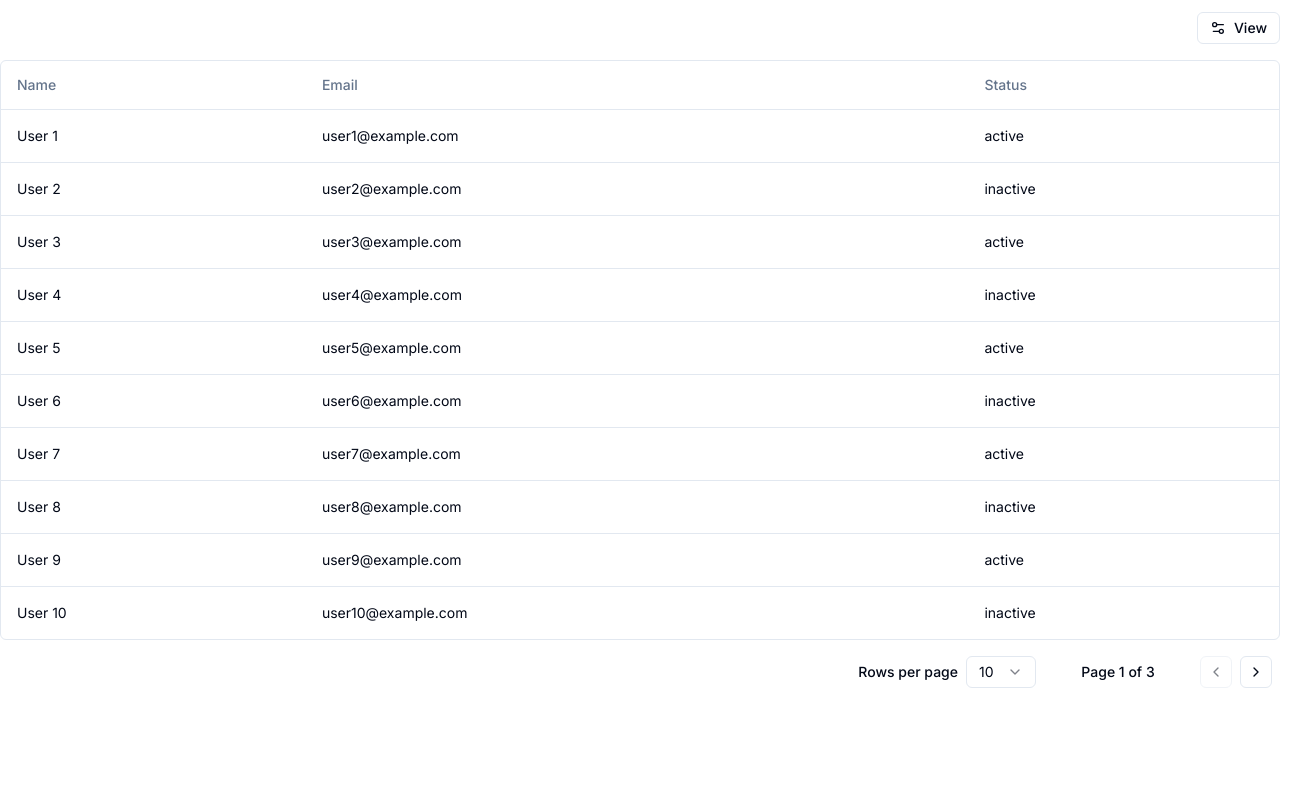
Test case: DataTable › pagination › navigates to next page when next button clicked
This screenshot has width=1292, height=812.
Click the 2nd button named "go to next page": x=1256, y=672 x1=1240 y1=656 x2=1272 y2=688
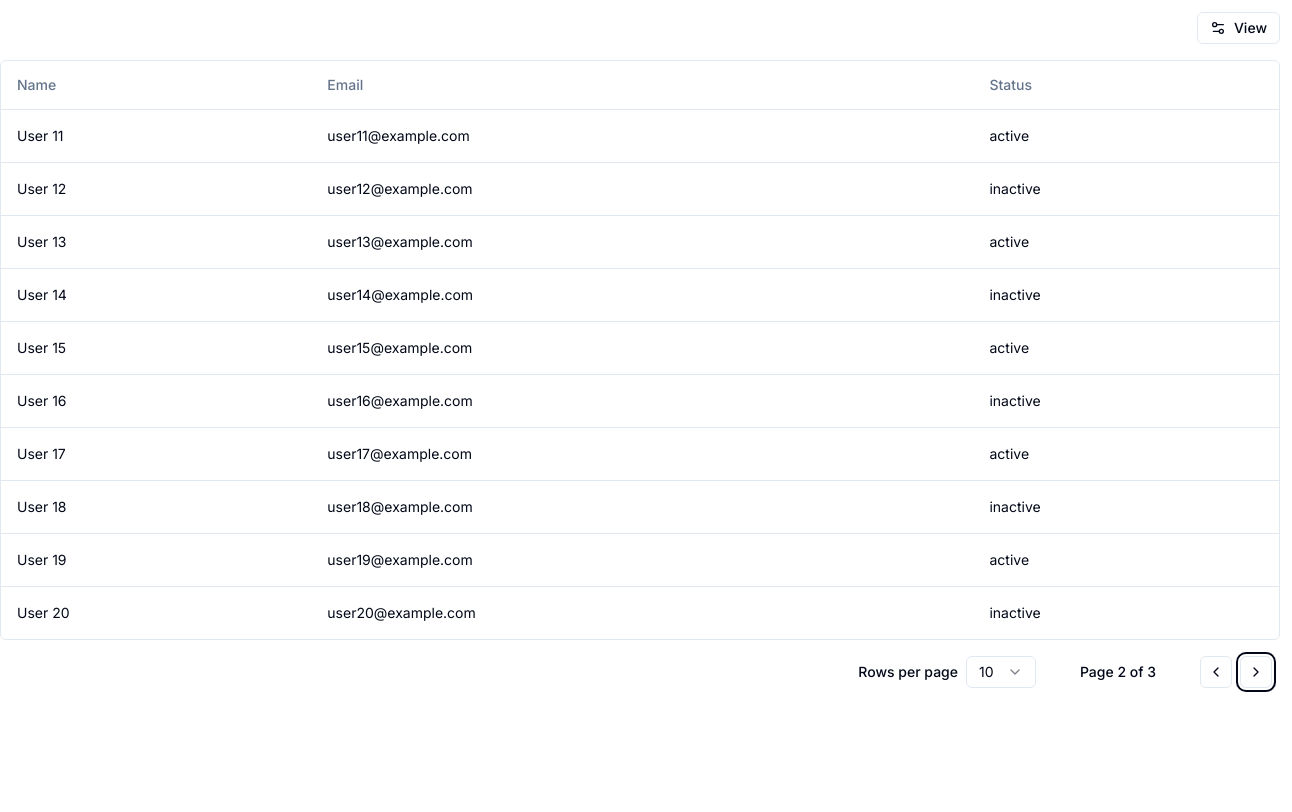
Expected: the text "User 11" is shown, x1=1 y1=109 x2=311 y2=162
